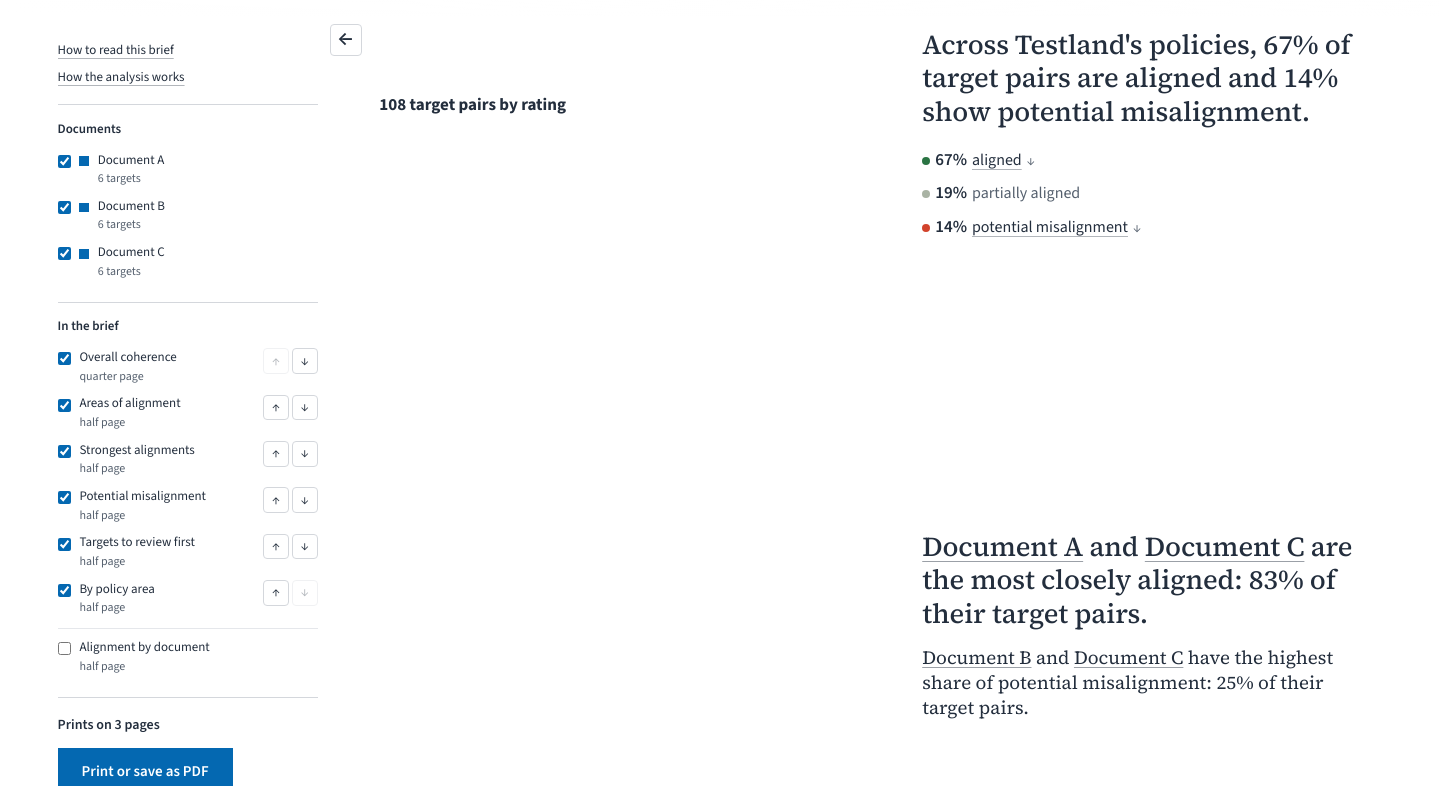
Test: BriefApp screen and print › takes a section off the screen as well as the print, and brings it back
(page scrolled)
Click the checkbox labelled "Areas of alignment half page": (64,405) [58, 399, 71, 412]
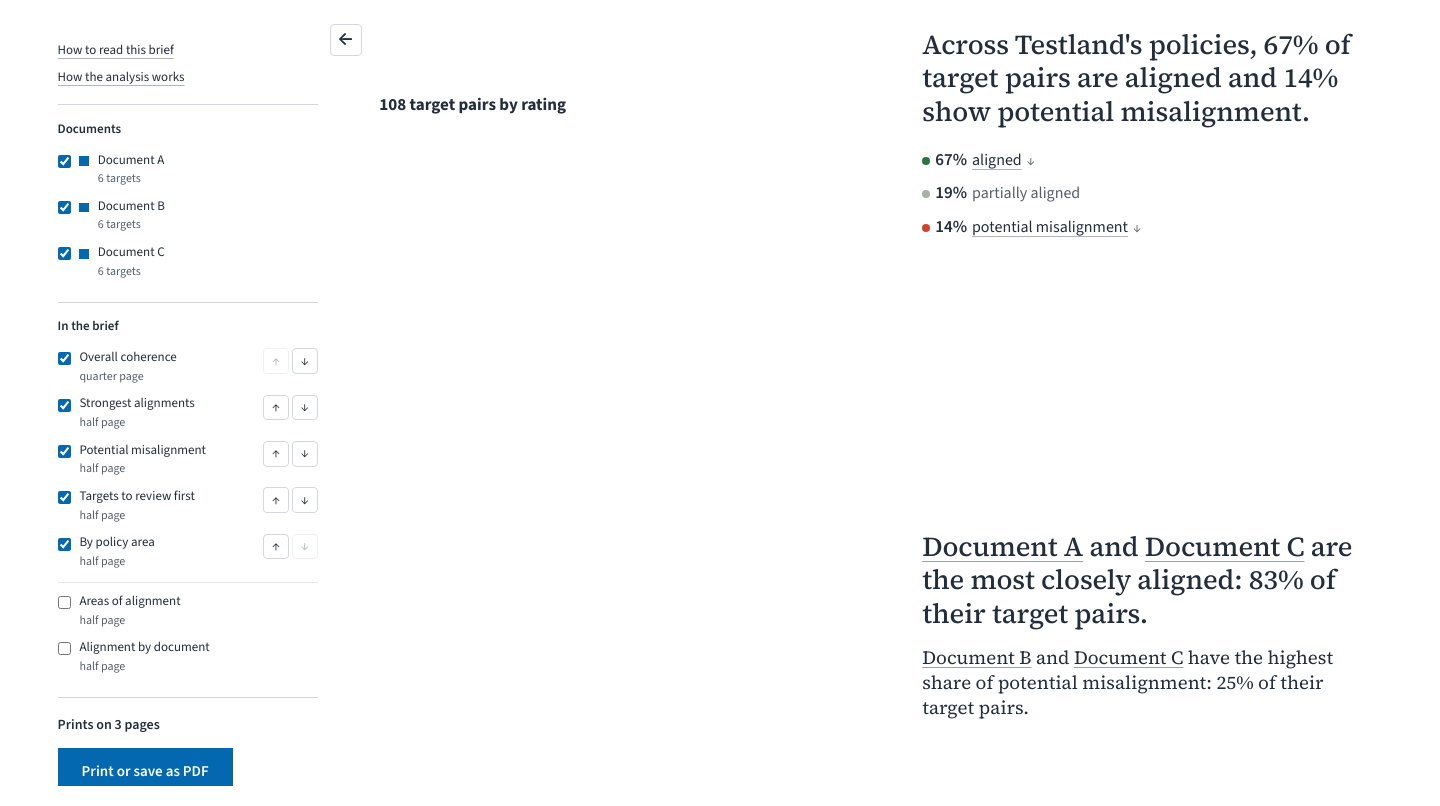
Click the checkbox labelled "Strongest alignments half page": (64,405) [58, 399, 71, 412]
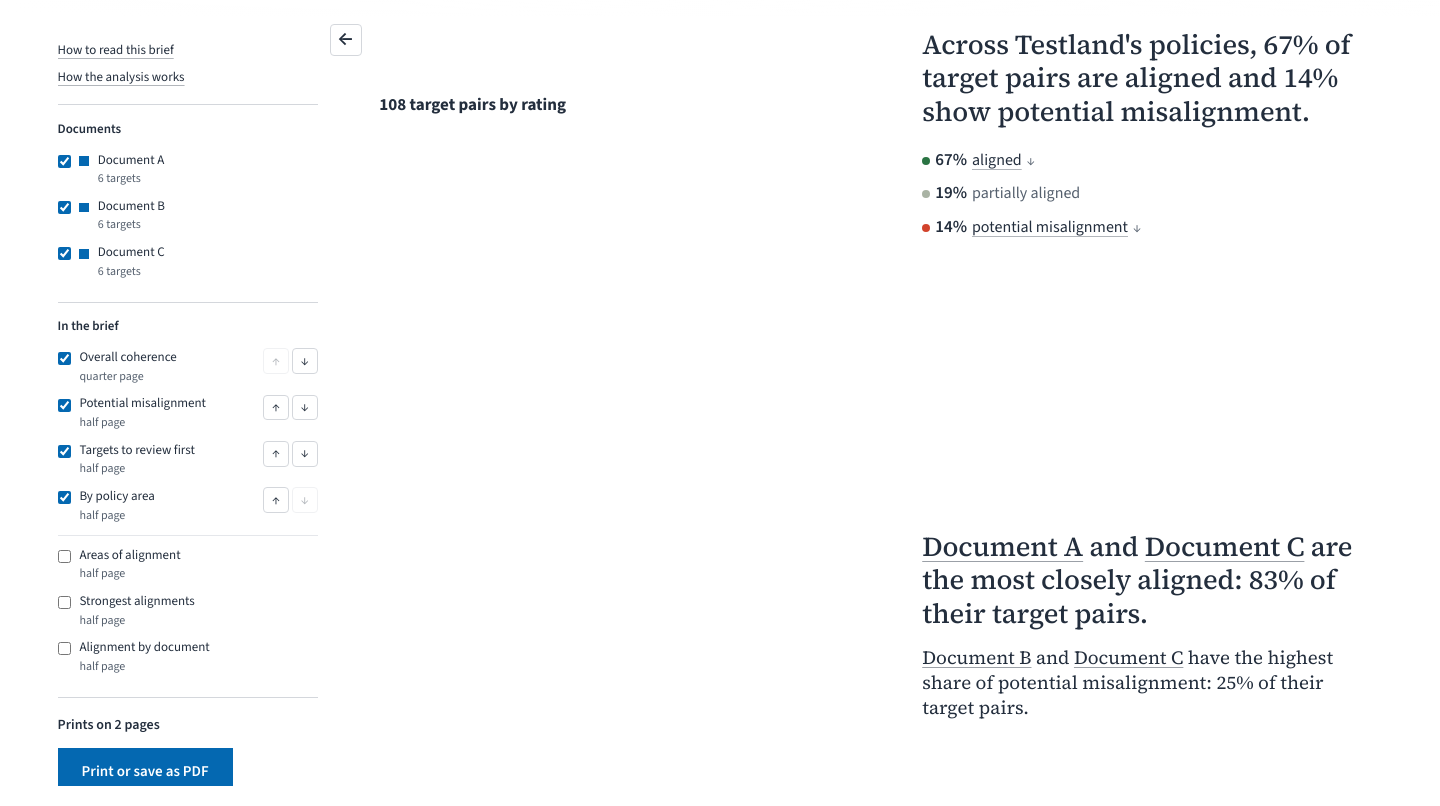
Click the checkbox labelled "Areas of alignment half page": (64,556) [58, 550, 71, 563]
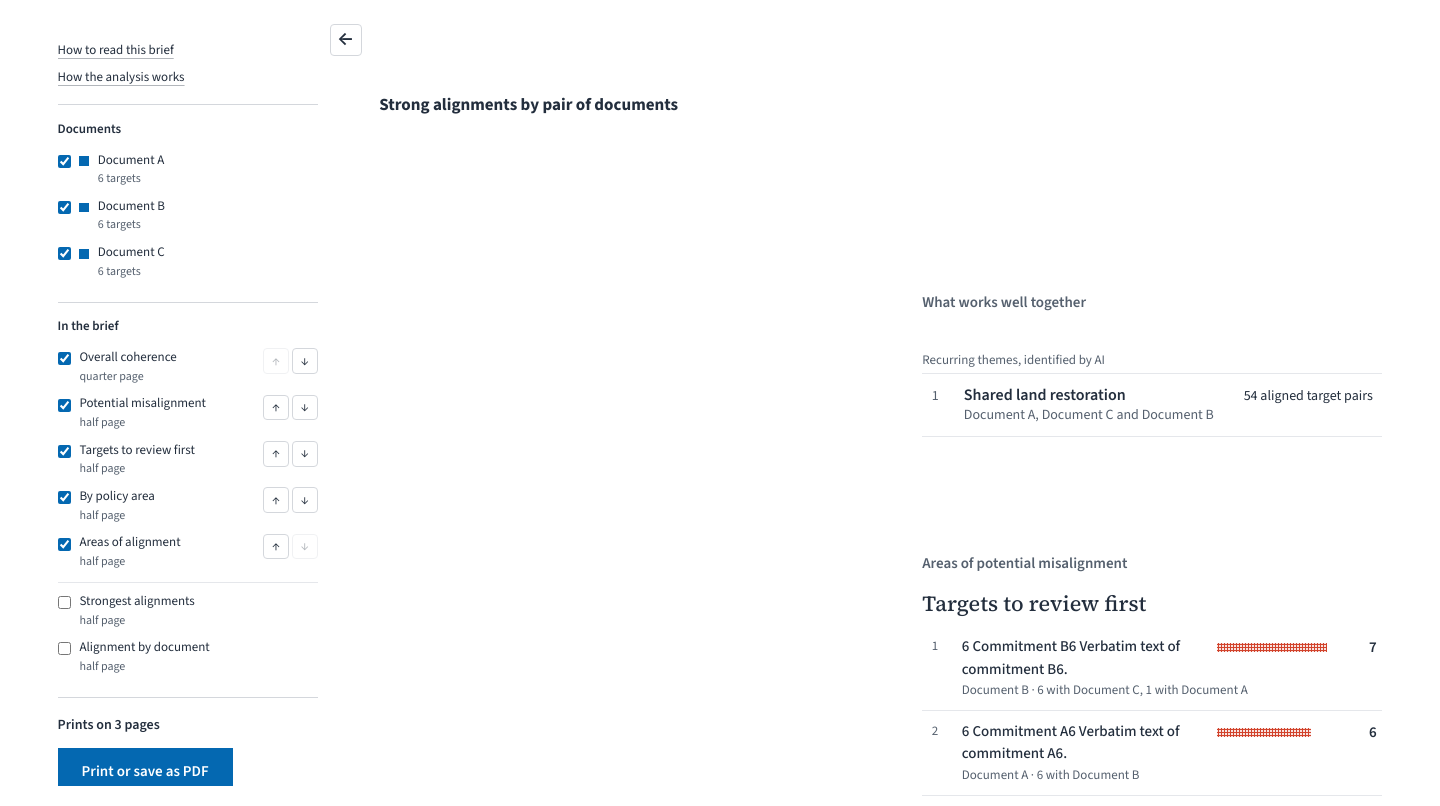
Now the list item with test id "brief-theme-row" is shown, box [922, 374, 1382, 437]
